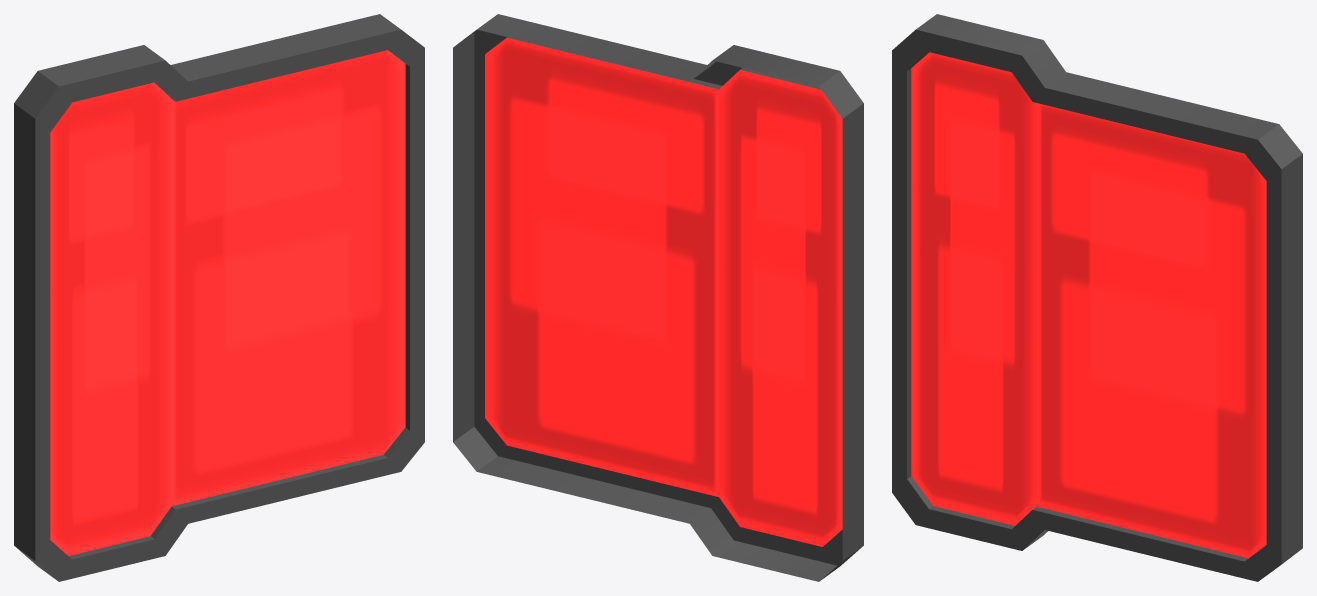
The model's file is WallPanel_02.fbx.
The picture shows the model from 3 angles, left to right: view 1: azimuth 30°, elevation 25°; view 2: azimuth 150°, elevation 25°; view 3: azimuth 330°, elevation 25°; orthographic projection.
Visible parts, largest first — view 1: Wall_Panel; view 2: Wall_Panel; view 3: Wall_Panel.
Part boxes in pixels (x1,y1,x2,y2): Wall_Panel: (14, 14, 424, 581); Wall_Panel: (453, 14, 863, 581); Wall_Panel: (892, 14, 1302, 581).
Bounding box in the file's own units: 279 × 339 × 26.44.
